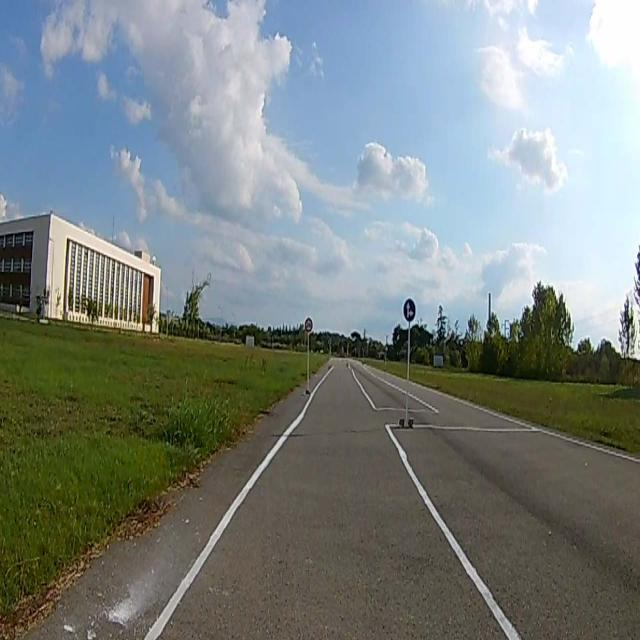ilerisag: (404, 300, 415, 319)
